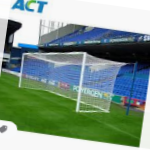goals: (18, 51, 125, 115)
